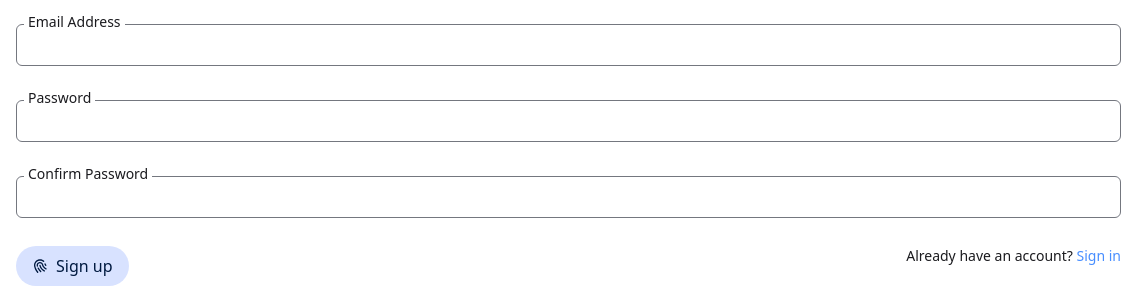
SignUpForm › displays error message for invalid data
Enter an invalid email
Type "invalid-email" into the field labelled "Email Address" at (568, 45), box [16,24,1121,66]
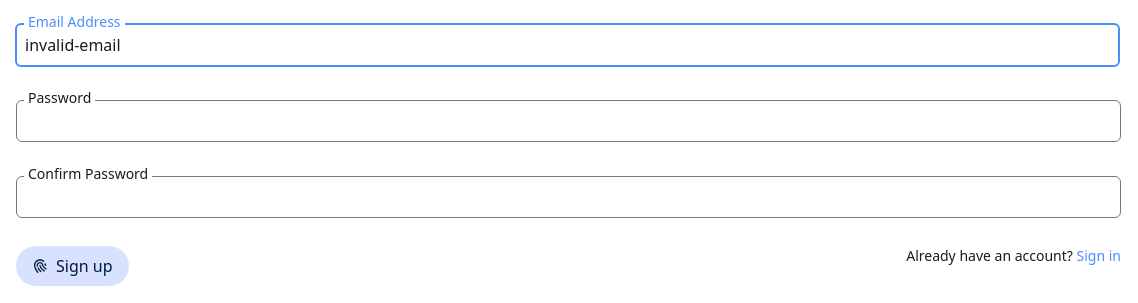
Enter a password
Type "password123" into the password field labelled "Password" at (568, 121), box [16,100,1121,142]
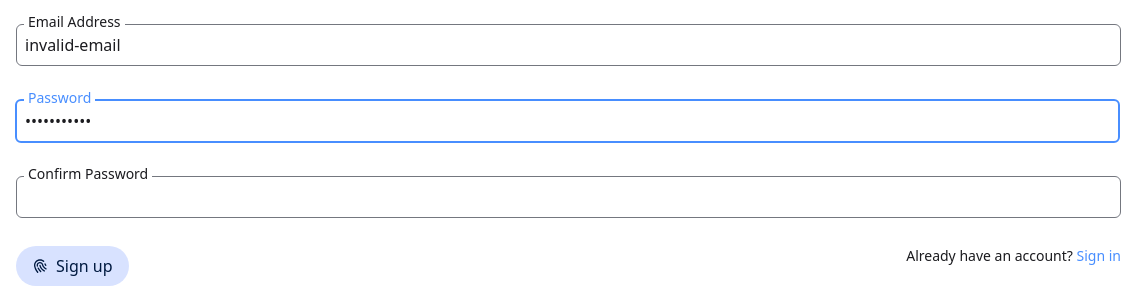
Enter a different confirm password
Type "password456" into the password field labelled "Confirm Password" at (568, 197), box [16,176,1121,218]
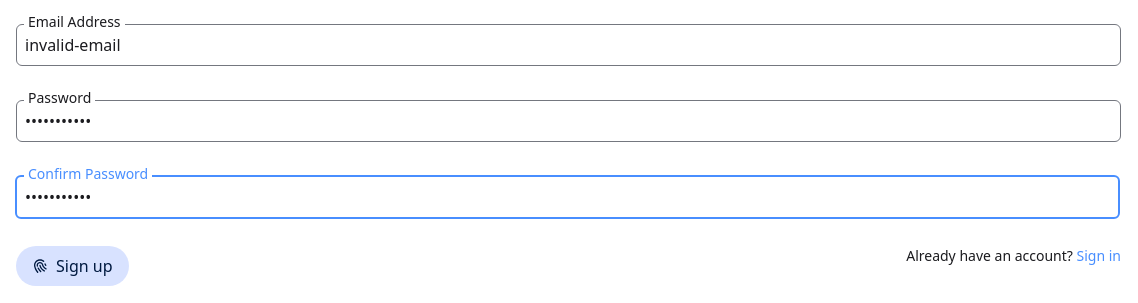
Click the submit button
Click the button at (72, 266), box [16,246,128,286]
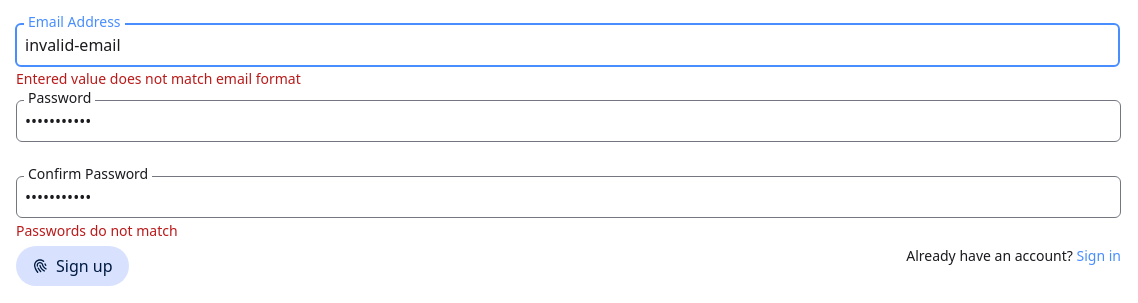
expect the text "Entered value does not match email format" is shown: met, box [16,69,301,88]
expect the text "Passwords do not match" is shown: met, box [16,221,178,240]
